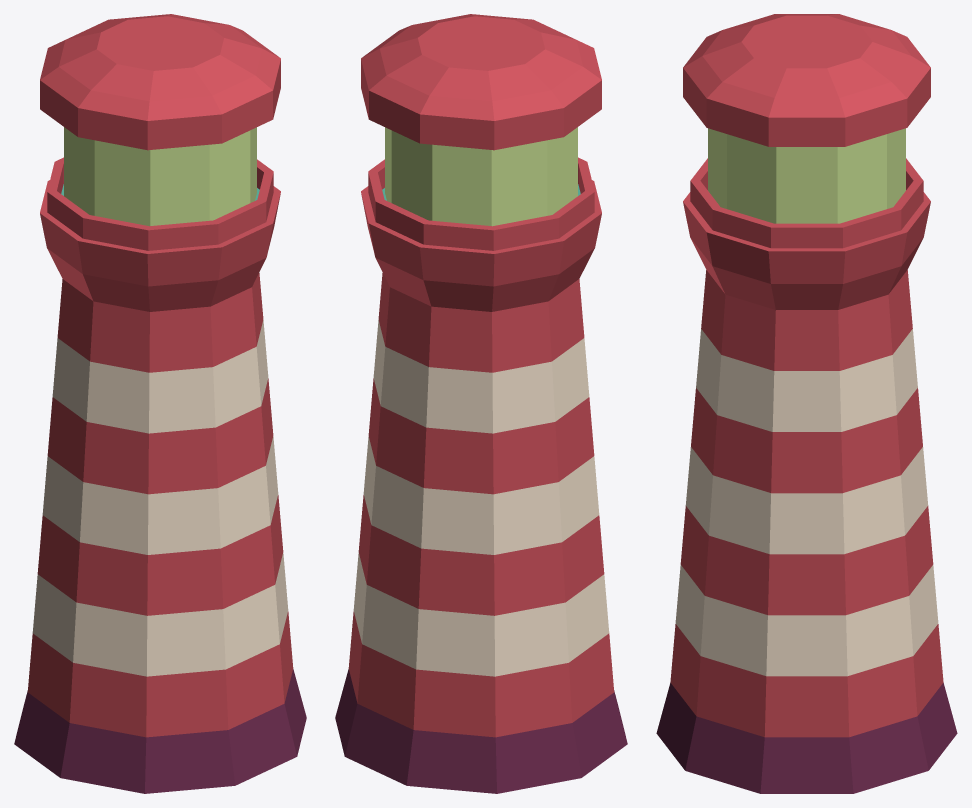
Rendered from lighthouse.glb.
The picture shows the model from 3 angles, left to right: view 1: azimuth 30°, elevation 25°; view 2: azimuth 150°, elevation 25°; view 3: azimuth 270°, elevation 25°; orthographic projection.
Parts seen in each view (by area): view 1: House; view 2: House; view 3: House.
Part boxes in pixels (x1,y1,x2,y2): House: (14,14,306,793); House: (335,14,627,793); House: (656,14,957,793).
Bounding box in the file's own units: 1.9 × 5.07 × 2.
1 material, 1 textured.
